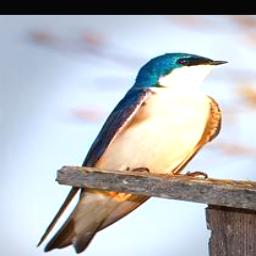Swallow: (34, 51, 230, 254)
